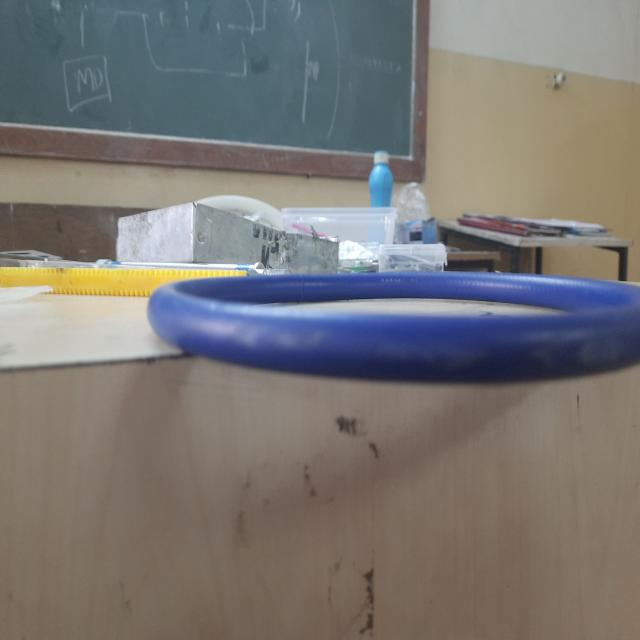daire: (153, 269, 640, 381)
